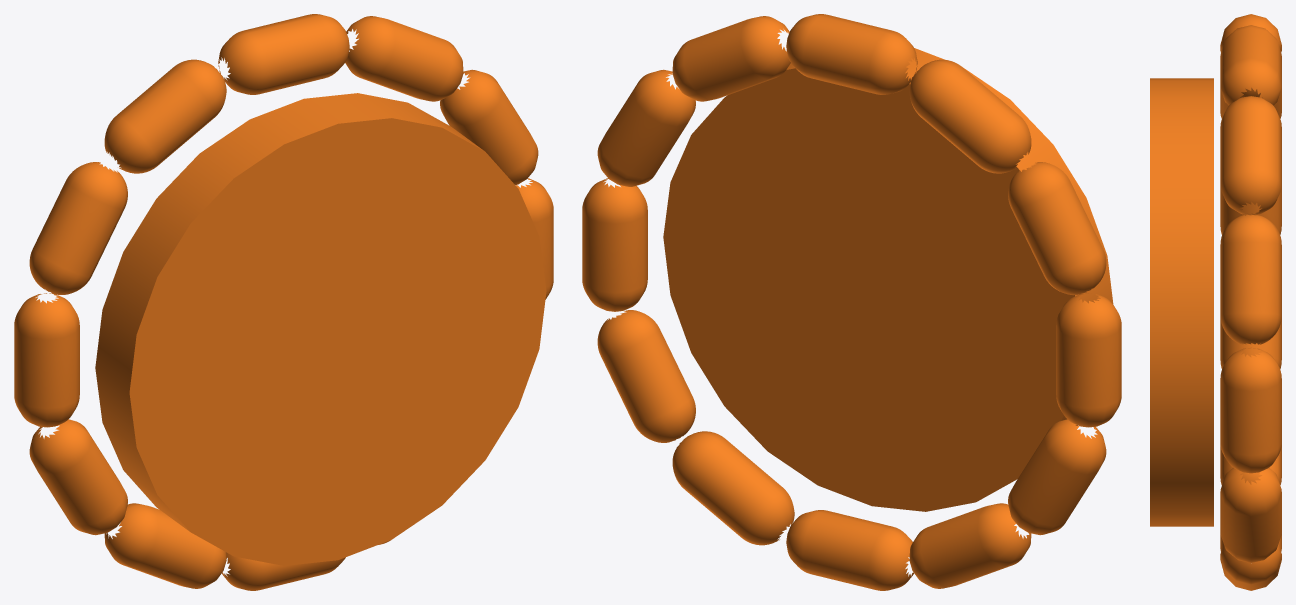
3 renders of one model, left to right at view 1: azimuth 30°, elevation 25°; view 2: azimuth 150°, elevation 25°; view 3: azimuth 270°, elevation 25°, orthographic. The views are drawn at different scales.
Visible parts, largest first — view 1: gripper_frame; view 2: gripper_frame; view 3: gripper_frame.
Part boxes in pixels (x1=…): gripper_frame: x1=14, y1=14, x2=553, y2=590; gripper_frame: x1=582, y1=14, x2=1121, y2=590; gripper_frame: x1=1150, y1=14, x2=1281, y2=590.
Size of the model in its own units: 0.0179 by 0.0179 by 0.00412.
